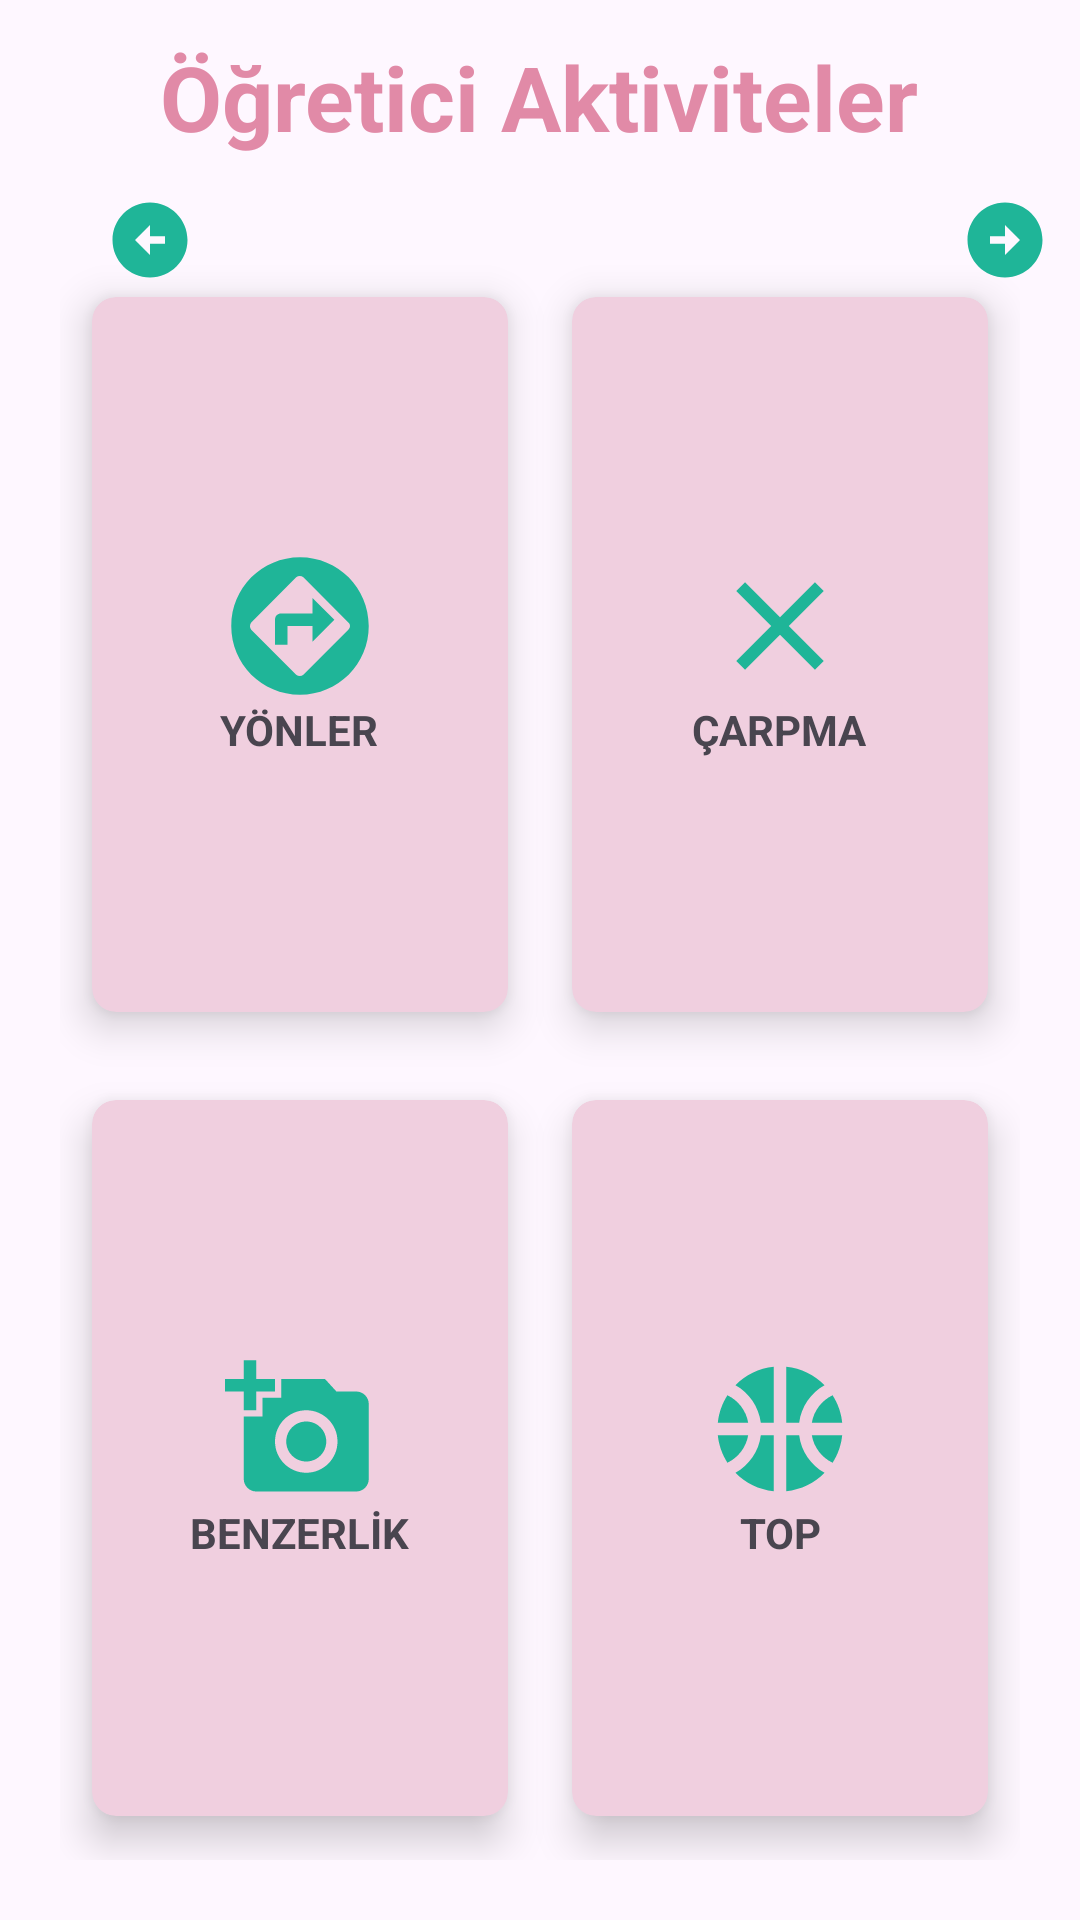

Screen size 1080w x 1920h. Icon name, then its box in pixels as (x1, y1, x2, y2):
add photo: (225, 1360, 369, 1492)
arrow circle left: (112, 202, 188, 278)
arrow circle right: (967, 202, 1043, 278)
close: (736, 582, 824, 670)
sports basketball: (717, 1366, 843, 1492)
